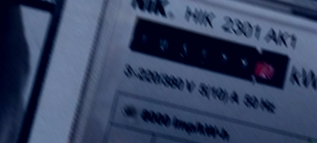0: (132, 27, 148, 48), (155, 32, 169, 52)
1: (196, 39, 208, 59)
3: (175, 39, 187, 59)
6: (256, 65, 268, 82)
9: (235, 53, 247, 72), (216, 46, 227, 65)
screen: (117, 11, 298, 97)
